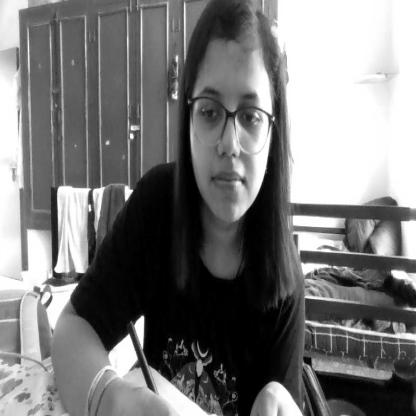Normal: (185, 0, 286, 234)
